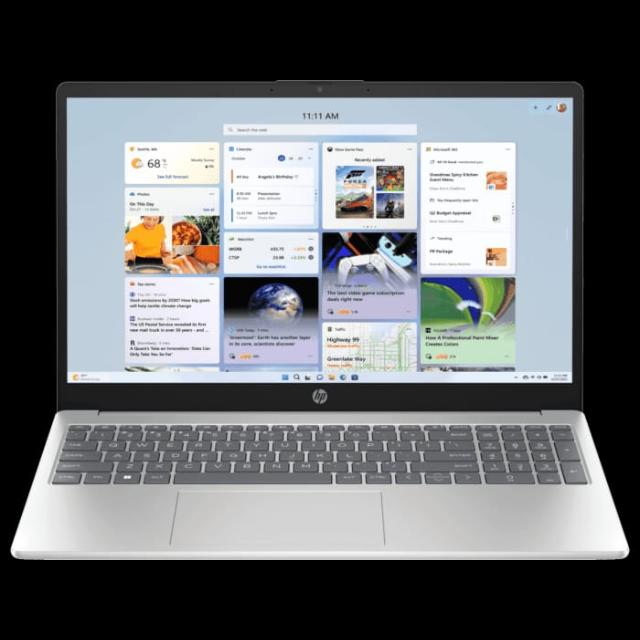laptop: (15, 80, 619, 560)
